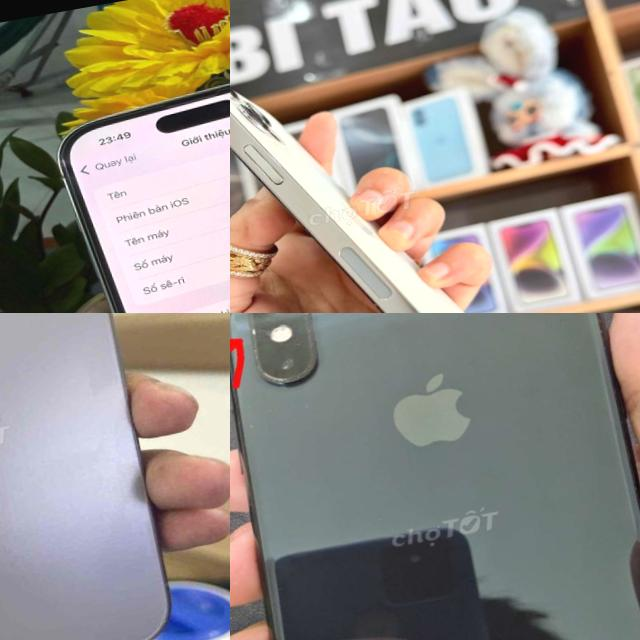gen_12_13: (230, 2, 535, 313)
gen_14: (34, 44, 230, 313)
gen_15: (0, 313, 189, 640)
gen_x_xs: (230, 313, 640, 640)
scratch: (240, 313, 337, 403), (232, 402, 274, 444), (283, 390, 325, 421), (623, 490, 640, 531)
